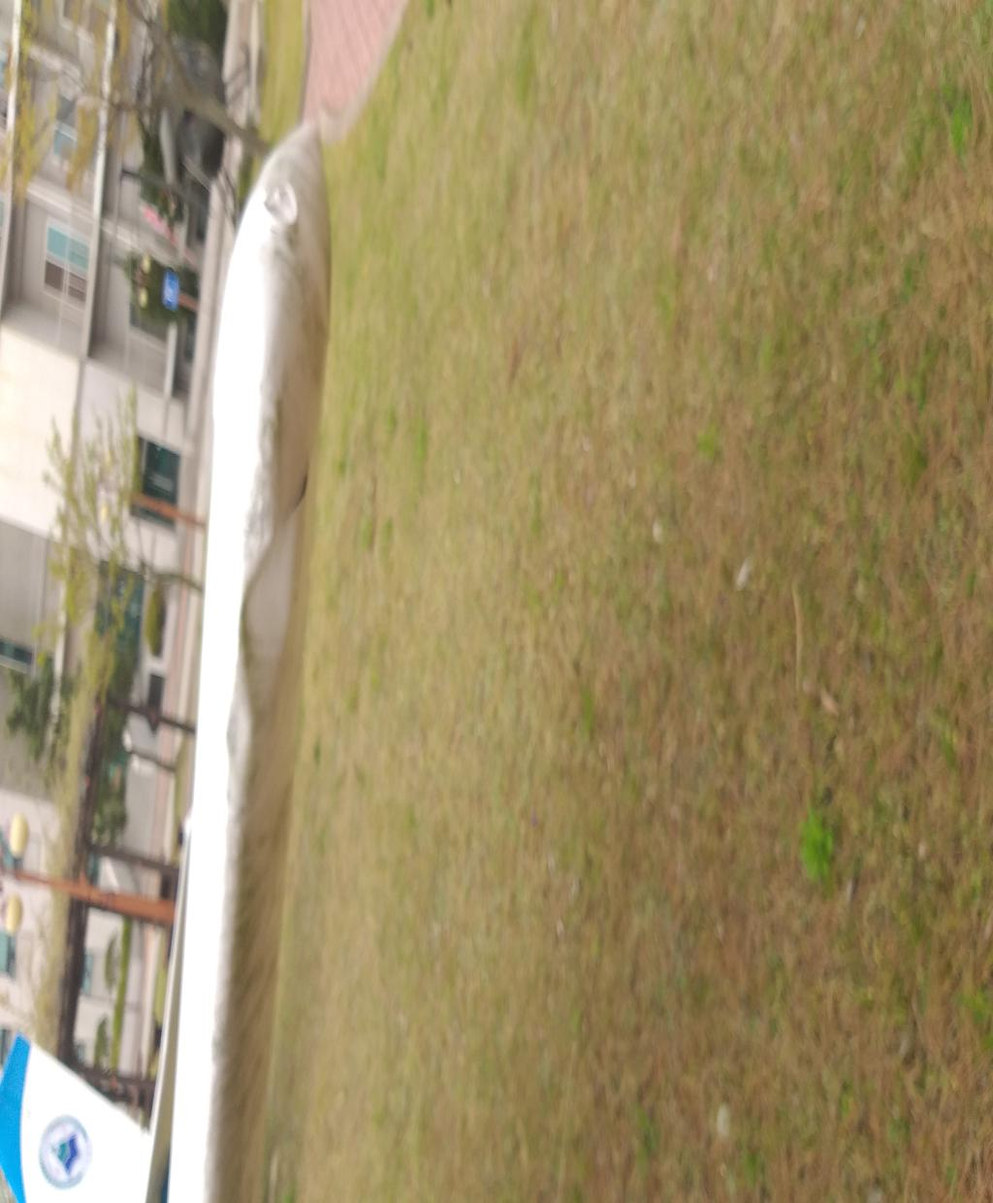dent: (223, 511, 337, 669), (197, 474, 238, 545)
